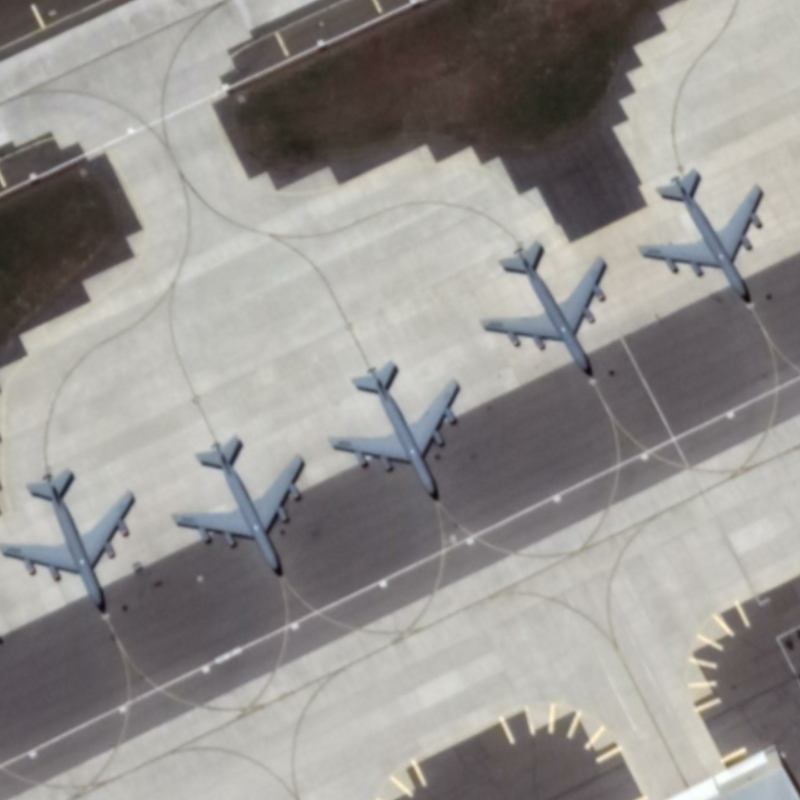A14: (327, 355, 471, 508), (171, 435, 319, 583), (1, 464, 138, 621), (481, 234, 623, 383), (633, 166, 777, 310)
